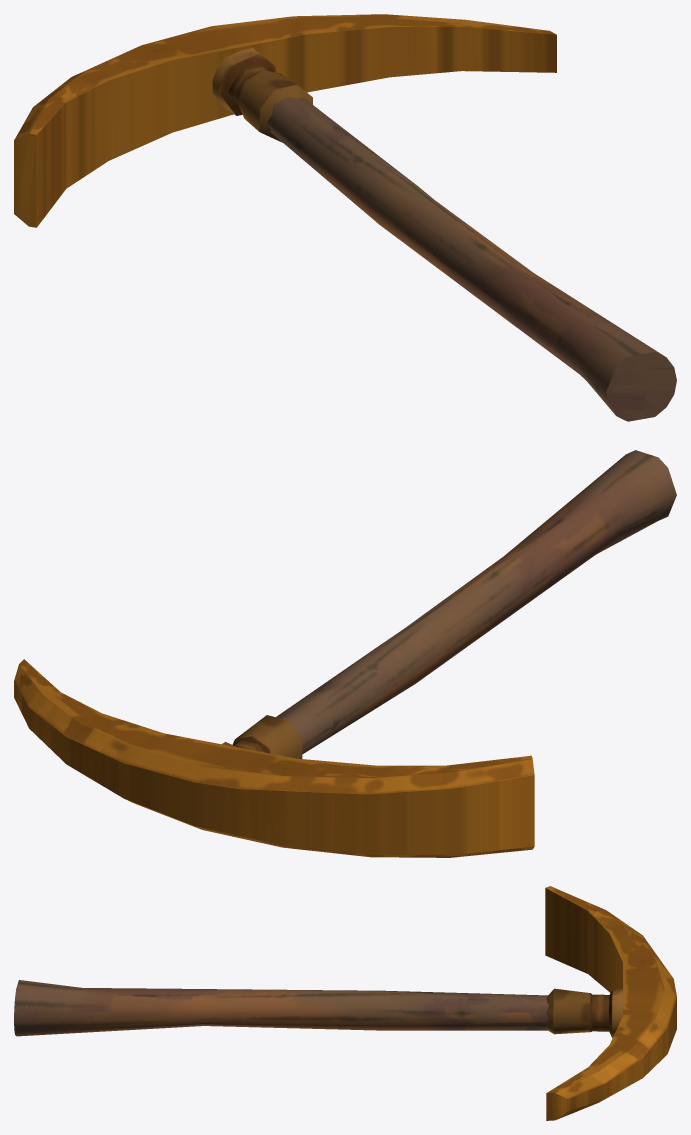
The model's file is fp-pickaxe-bronze-lod2.glb.
3 renders of one model, top to bottom at view 1: azimuth 30°, elevation 25°; view 2: azimuth 150°, elevation 25°; view 3: azimuth 270°, elevation 25°, orthographic. The views are drawn at different scales.
Visible parts, largest first — view 1: WeaponMesh_fp-pickaxe-bronze_Pickaxe_Bronze; view 2: WeaponMesh_fp-pickaxe-bronze_Pickaxe_Bronze; view 3: WeaponMesh_fp-pickaxe-bronze_Pickaxe_Bronze.
Boxes of the visible parts, left/top/right/bottom form: WeaponMesh_fp-pickaxe-bronze_Pickaxe_Bronze: left=14, top=14, right=676, bottom=421; WeaponMesh_fp-pickaxe-bronze_Pickaxe_Bronze: left=14, top=450, right=676, bottom=857; WeaponMesh_fp-pickaxe-bronze_Pickaxe_Bronze: left=14, top=886, right=676, bottom=1120.
Bounding box in the file's own units: 1.05 × 0.1756 × 1.55.
1 material, 1 textured.
